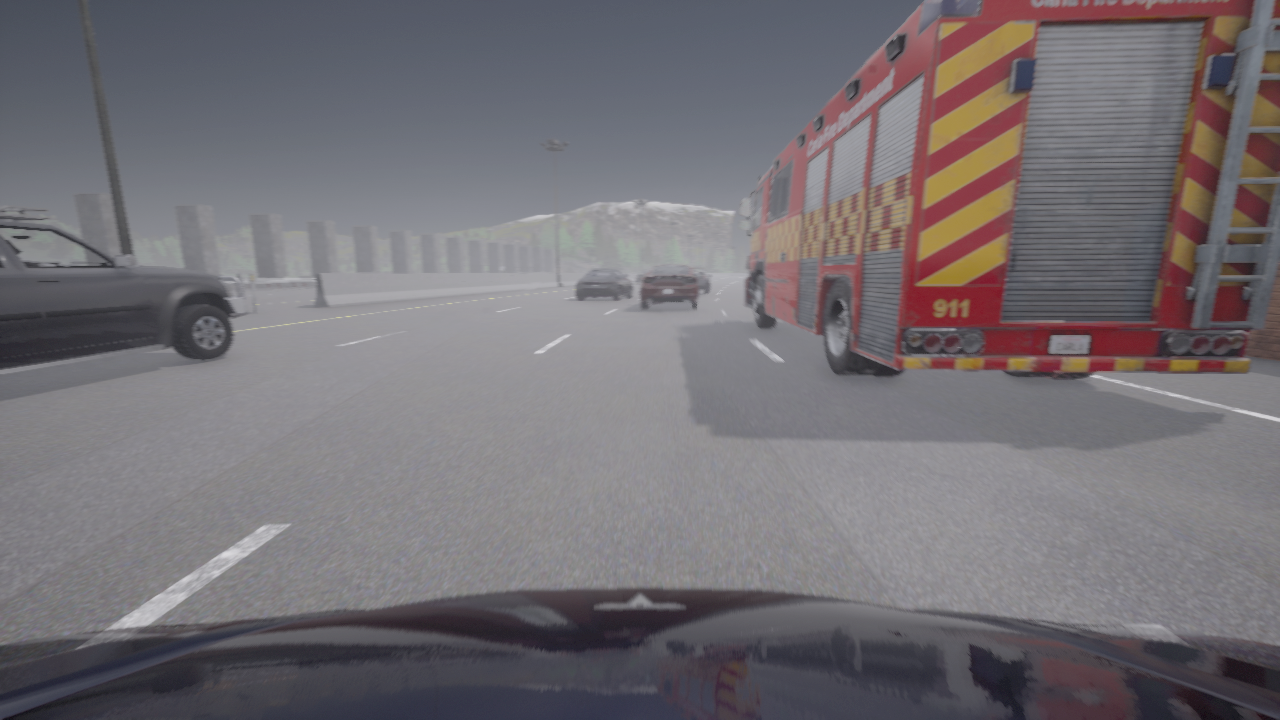cyclist: (739, 0, 1279, 378), (0, 588, 1279, 719), (0, 206, 247, 375), (641, 263, 701, 309), (576, 269, 632, 299), (691, 267, 710, 294), (636, 270, 648, 283)
